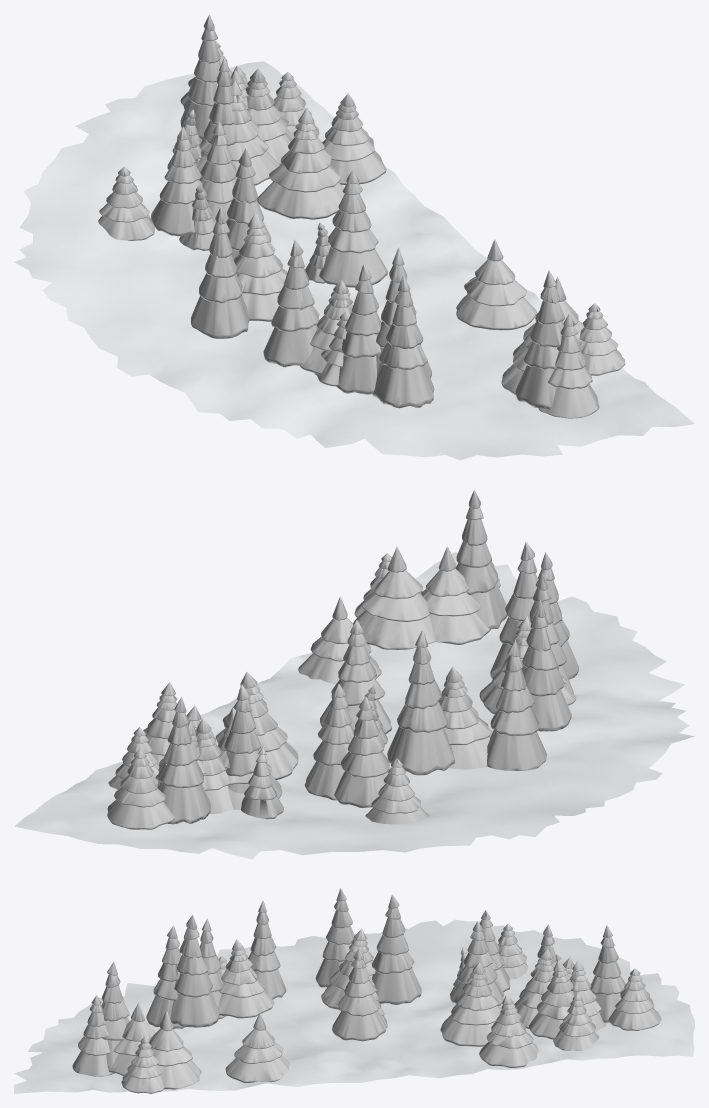
Rendered from lynx-land-v1.glb.
3 renders of one model, top to bottom at view 1: azimuth 30°, elevation 25°; view 2: azimuth 150°, elevation 25°; view 3: azimuth 270°, elevation 25°, orthographic. The views are drawn at different scales.
Visible parts, largest first — view 1: Ground, Ground.001; view 2: Ground.001, Ground; view 3: Ground.001, Ground.
Boxes of the visible parts, <box> form: Ground: <box>14,61,694,460</box>; Ground.001: <box>98,14,625,418</box>; Ground.001: <box>107,489,578,829</box>; Ground: <box>14,552,694,859</box>; Ground.001: <box>72,888,661,1093</box>; Ground: <box>14,919,694,1093</box>.
Bounding box in the file's own units: 17.9 × 7.24 × 33.69.
Materials: 2 (1 with a texture image).
